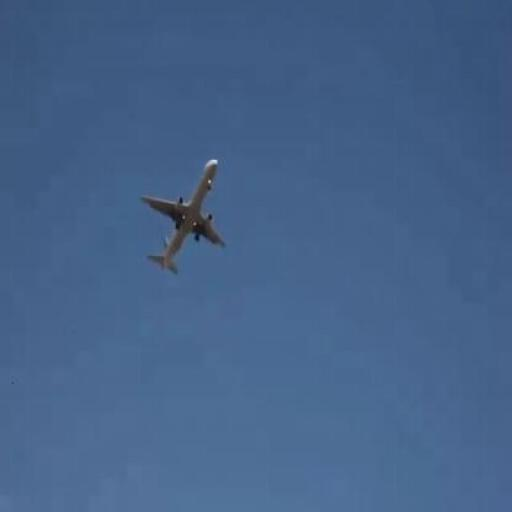aircraft: (142, 154, 230, 274)
